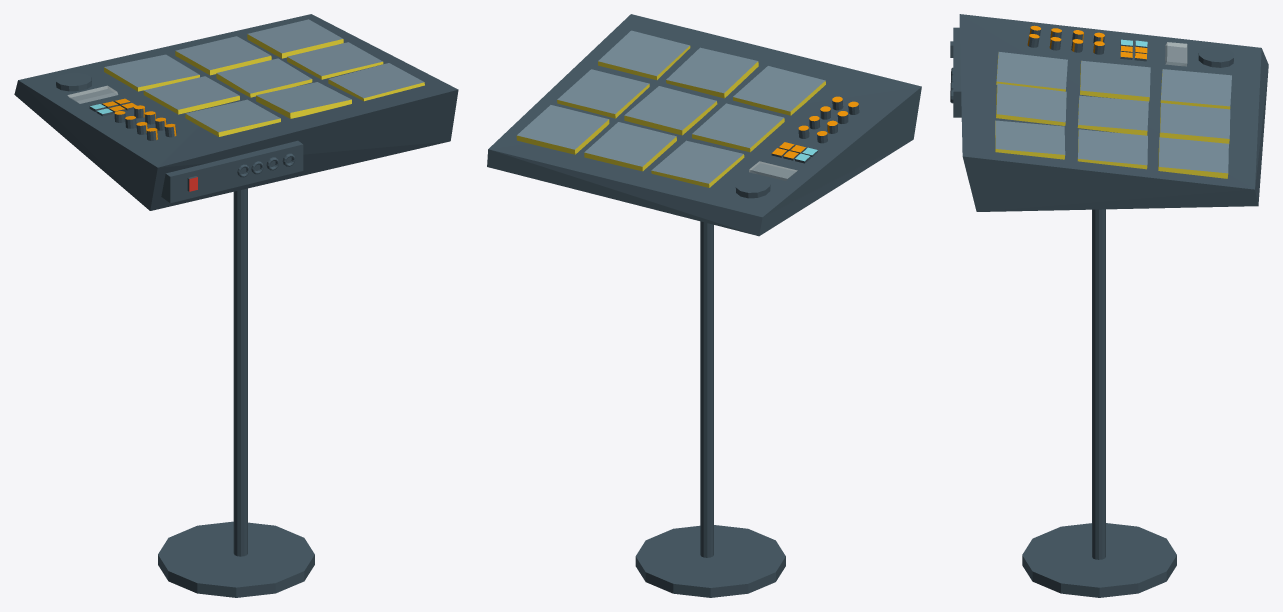
File: Drum Machine 2 by Peter Simcoe - eflBcV4gcIl.glb
3 renders of one model, left to right at view 1: azimuth 30°, elevation 25°; view 2: azimuth 150°, elevation 25°; view 3: azimuth 270°, elevation 25°, orthographic. The views are drawn at different scales.
Parts seen in each view (by area): view 1: group2045103780, group1912839726, group681427398, group273564800, group1149581205, group727357565, group1132015495, group1441970887, group429365395, group487033561, group968990847, group211396980 (+2 smaller); view 2: group2045103780, group1912839726, group681427398, group429365395, group1149581205, group1132015495, group968990847, group727357565, group487033561, group1441970887, group1335247664, group211396980 (+1 smaller); view 3: group2045103780, group1912839726, group681427398, group429365395, group1149581205, group1132015495, group1441970887, group211396980, group727357565, group1335247664, group487033561, group968990847 (+3 smaller).
Part boxes in pixels (x1,y1,x2,y2): group2045103780: (14, 14, 458, 210); group1912839726: (158, 521, 314, 597); group681427398: (233, 188, 247, 556); group273564800: (161, 140, 303, 203); group1149581205: (247, 19, 343, 58); group727357565: (216, 58, 312, 97); group1132015495: (175, 36, 271, 75); group1441970887: (143, 76, 239, 114); group429365395: (256, 82, 351, 118); group487033561: (328, 63, 424, 101); group968990847: (185, 99, 280, 136); group211396980: (104, 54, 199, 91); group2045103780: (487, 14, 921, 236); group1912839726: (635, 525, 785, 597); group681427398: (700, 221, 713, 557); group429365395: (666, 47, 758, 98); group1149581205: (516, 105, 609, 154); group1132015495: (584, 122, 676, 171); group968990847: (733, 66, 825, 115); group727357565: (624, 86, 717, 135); group487033561: (598, 30, 690, 80); group1441970887: (692, 103, 784, 152); group1335247664: (557, 69, 649, 118); group211396980: (651, 140, 744, 187); group2045103780: (959, 14, 1268, 211); group1912839726: (1022, 523, 1176, 597); group681427398: (1092, 209, 1105, 559); group429365395: (996, 83, 1066, 125); group1149581205: (1158, 137, 1228, 178); group1132015495: (1159, 103, 1230, 143); group1441970887: (1080, 60, 1150, 101); group211396980: (1160, 69, 1231, 109); group727357565: (1077, 95, 1148, 135); group1335247664: (1077, 129, 1147, 169); group487033561: (995, 120, 1065, 159); group968990847: (996, 52, 1067, 91).
Size of the model in its own units: 1.73 by 2.67 by 1.6.
